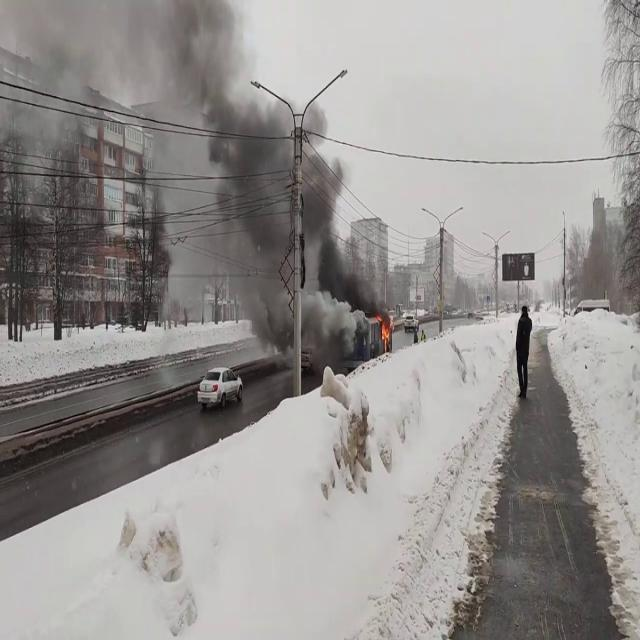Fire: (377, 308, 392, 352)
Smoke: (140, 1, 380, 354)
